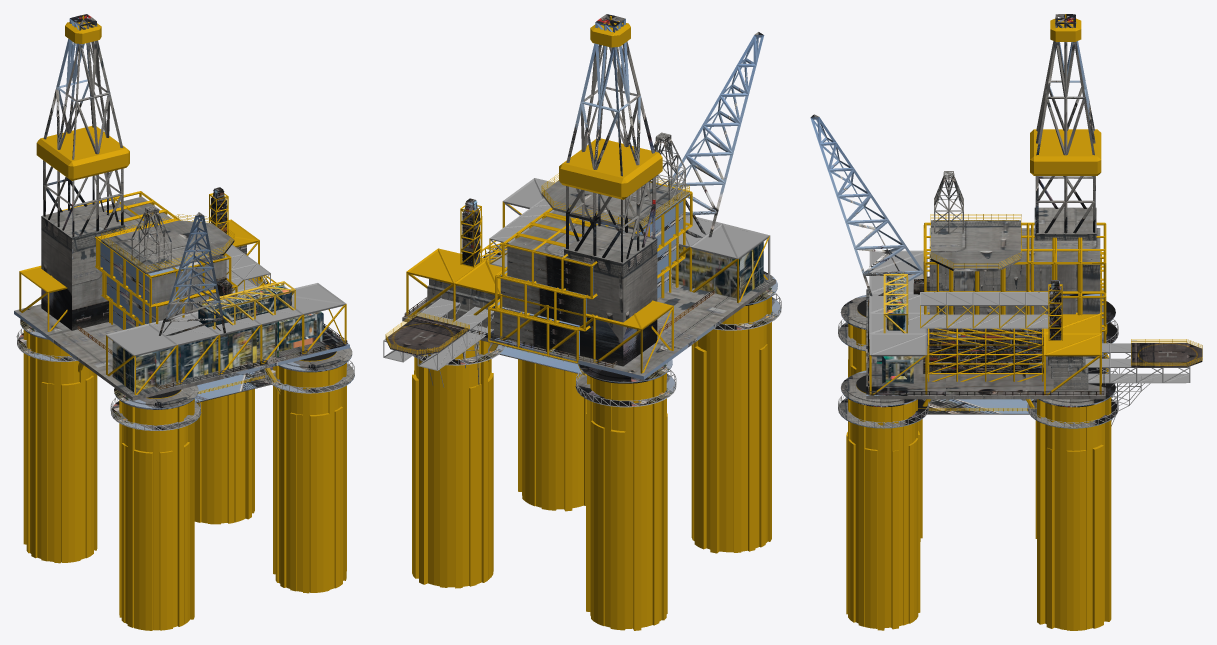
The model's file is oil_rig.glb.
3 views of the same model, side by side, from view 1: azimuth 30°, elevation 25°; view 2: azimuth 150°, elevation 25°; view 3: azimuth 270°, elevation 25° (orthographic). The views are drawn at different scales.
Parts seen in each view (by area): view 1: Cylinder.008, Cylinder.006, Cylinder.007, Cylinder.005, Cube.030, Cube.034, Cube.031, Plane.008, Plane.004, Cube.024, Cube.025, Cube.032 (+16 smaller); view 2: Cylinder.007, Cylinder.008, Cylinder.005, Cube.024, Cylinder.006, Cube.030, Cube.031, Plane.004, Plane.003, Cube.033, Cylinder.004, Cube.032 (+19 smaller); view 3: Cylinder.005, Cylinder.006, Cube.024, Plane.004, Cube.031, Plane.008, Cube.049, Cube.025, Plane.005, Cylinder.004, Cube.033, Cube.032 (+22 smaller).
Part boxes in pixels (bbox=[...]): Cylinder.008: bbox=[119, 389, 194, 630]; Cylinder.006: bbox=[273, 351, 346, 593]; Cylinder.007: bbox=[23, 329, 97, 563]; Cylinder.005: bbox=[194, 389, 254, 524]; Cube.030: bbox=[41, 203, 125, 330]; Cube.034: bbox=[112, 311, 323, 392]; Cube.031: bbox=[43, 14, 123, 237]; Plane.008: bbox=[106, 283, 346, 395]; Plane.004: bbox=[14, 278, 349, 400]; Cube.024: bbox=[100, 196, 232, 329]; Cube.025: bbox=[101, 220, 234, 274]; Cube.032: bbox=[36, 126, 129, 180]; Cylinder.007: bbox=[586, 373, 667, 630]; Cylinder.008: bbox=[691, 296, 771, 553]; Cylinder.005: bbox=[412, 340, 493, 588]; Cube.024: bbox=[494, 201, 683, 355]; Cylinder.006: bbox=[518, 359, 586, 511]; Cube.030: bbox=[564, 224, 657, 366]; Cube.031: bbox=[566, 14, 655, 262]; Plane.004: bbox=[402, 246, 775, 379]; Plane.003: bbox=[406, 248, 673, 373]; Cube.033: bbox=[488, 182, 692, 363]; Cylinder.004: bbox=[668, 32, 764, 237]; Cube.032: bbox=[559, 138, 662, 199]; Cylinder.005: bbox=[1037, 397, 1111, 630]; Cylinder.006: bbox=[846, 375, 920, 630]; Cube.024: bbox=[929, 228, 1100, 356]; Plane.004: bbox=[866, 289, 1105, 400]; Cube.031: bbox=[1035, 14, 1095, 233]; Plane.008: bbox=[869, 250, 927, 395]; Cube.049: bbox=[923, 328, 1043, 373]; Cube.025: bbox=[931, 220, 1021, 271]; Plane.005: bbox=[920, 292, 1049, 328]; Cylinder.004: bbox=[810, 114, 923, 296]; Cube.033: bbox=[923, 222, 1106, 358]; Cube.032: bbox=[1030, 129, 1101, 175].
Bounding box in the file's own units: 96.26 × 209 × 140.
8 materials, 4 textured.
